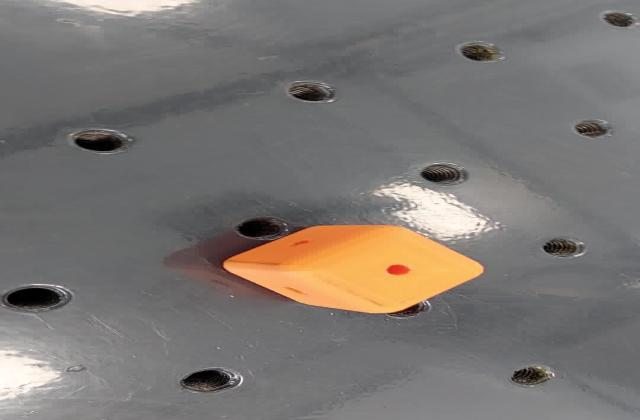cube: (207, 221, 492, 319)
